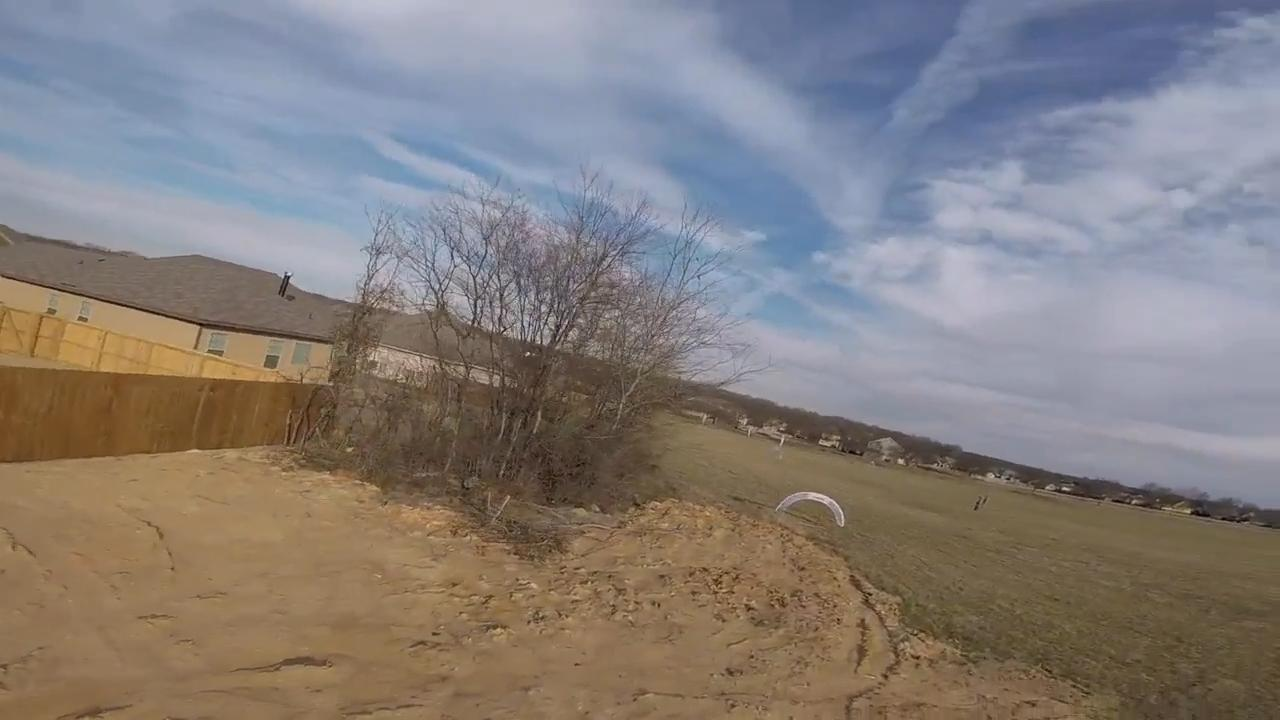gate: (776, 490, 847, 539)
